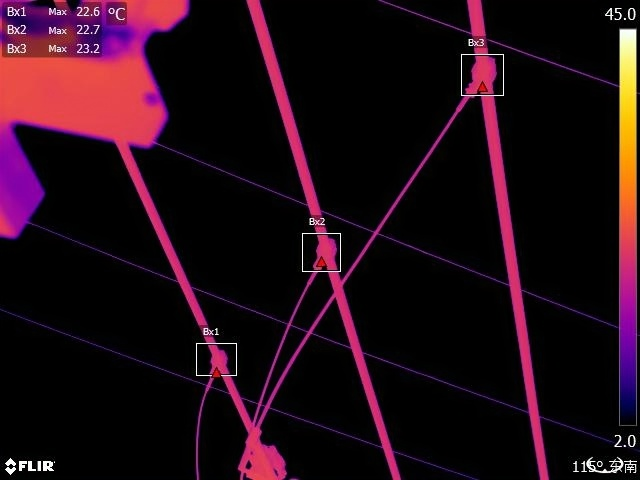clamp: (310, 236, 342, 273), (468, 59, 499, 90), (201, 345, 228, 374)
